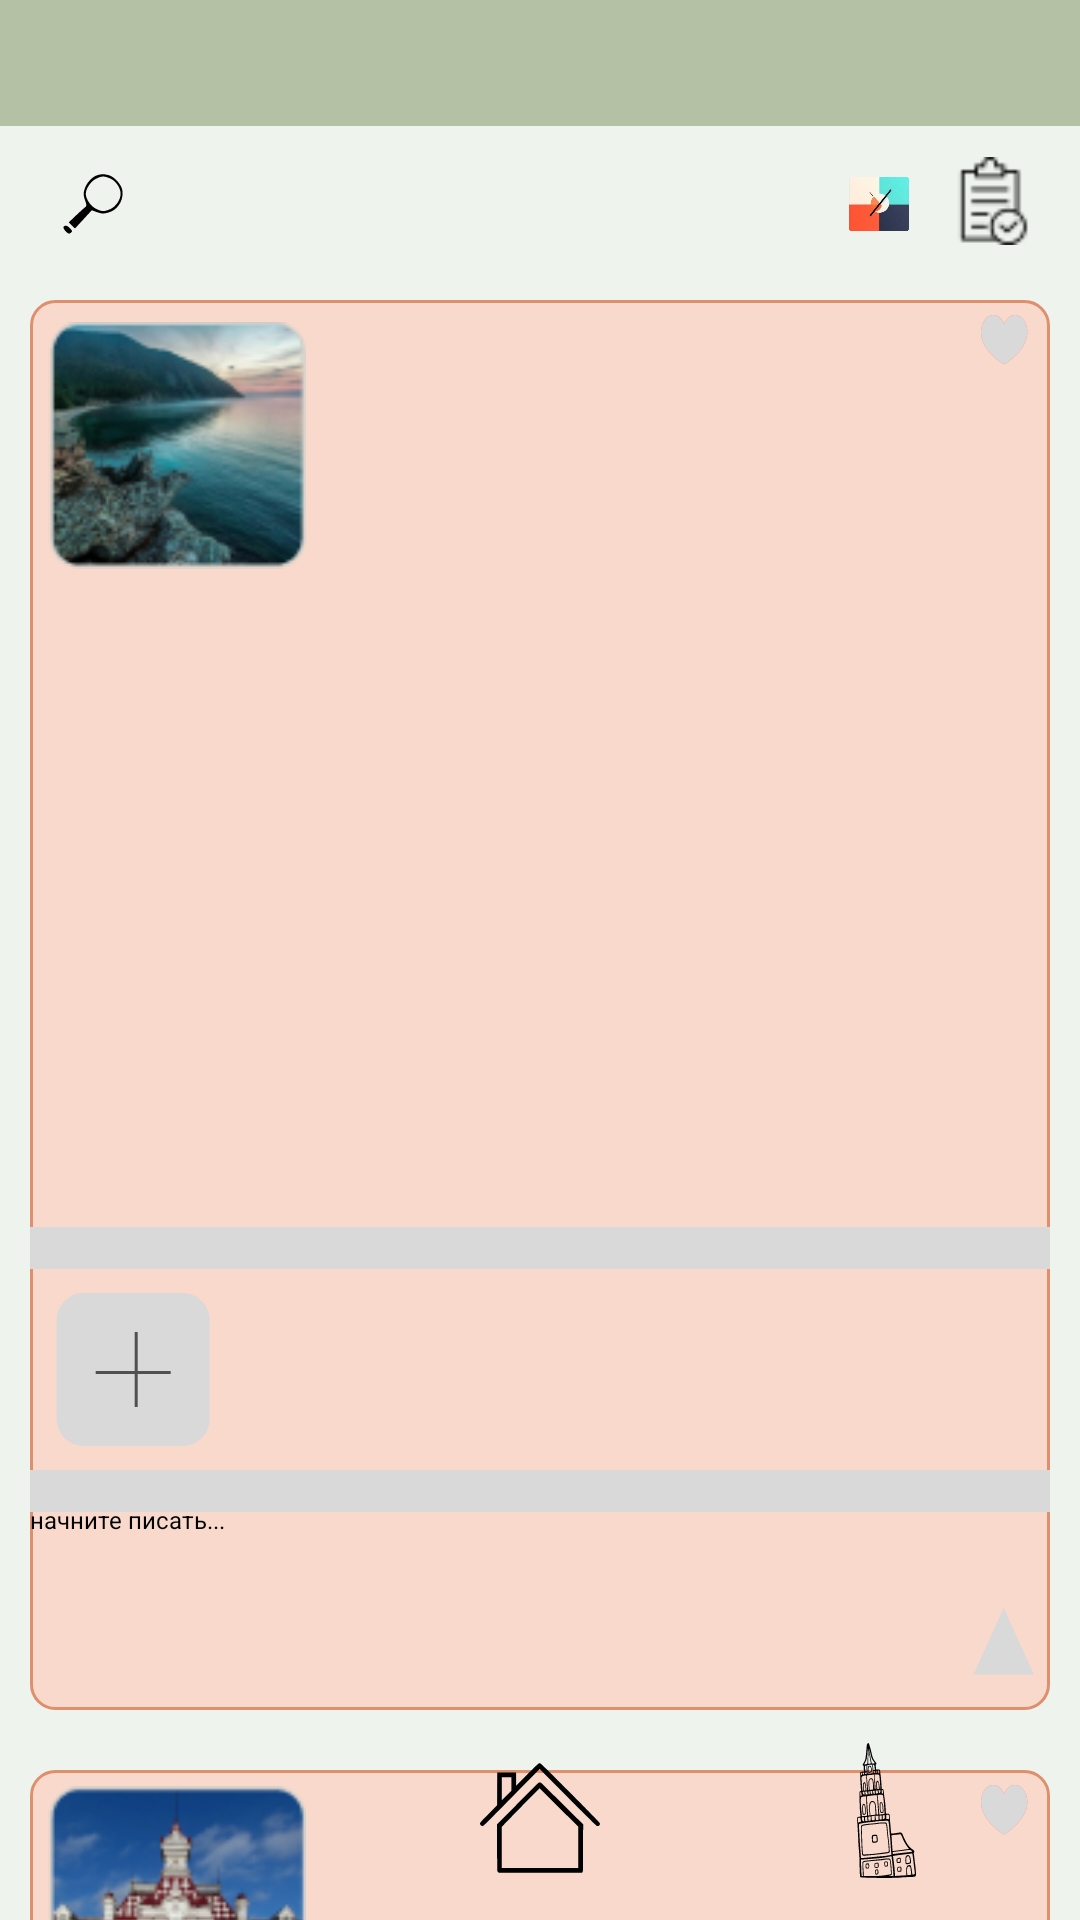

Icon bounding boxes for this 1080 × 1920 phone screenshot, format bbox=(x1, y1, x2, y2):
list: bbox=(960, 157, 1028, 245)
plus: bbox=(57, 1293, 209, 1446)
иконка дома: bbox=(480, 1758, 600, 1873)
иконка приложения: bbox=(849, 177, 909, 231)
невьянская башня: bbox=(831, 1743, 942, 1878)
Озеро Байкал: bbox=(50, 322, 306, 567)
поиск: bbox=(63, 174, 123, 234)
